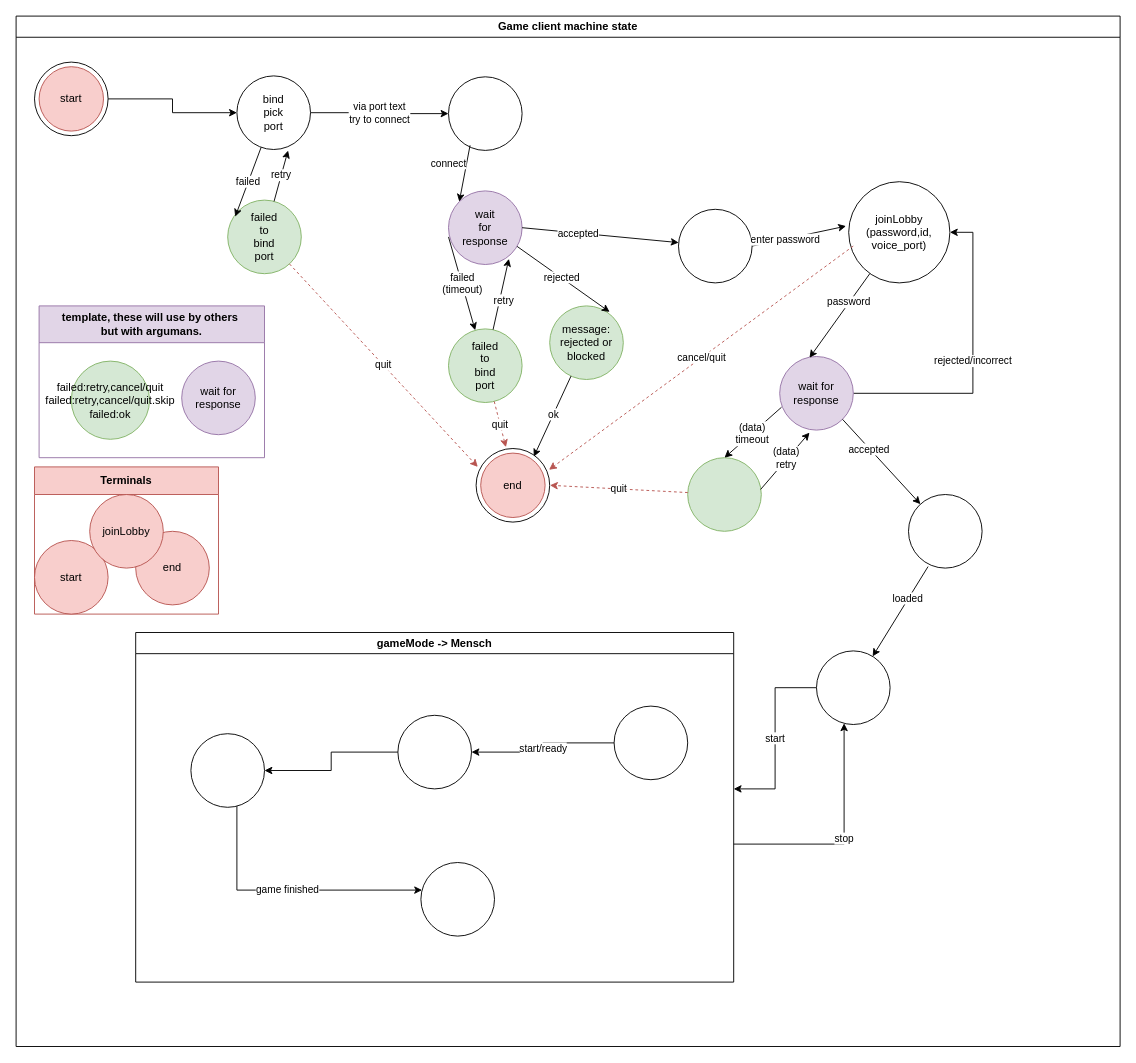
Some shapes in this 1136 by 1063 pixel diagram are drawn without their labels. Each missing label, with the centre of its shape:
connected to the server: the point at 715,245
connecting to server: the point at 485,113
failed:timeout: the point at 724,494
game board: the point at 227,770
game end: the point at 457,899
load game board: the point at 434,751
loading lobby: the point at 945,531
lobby: the point at 853,687
select seat: the point at 650,742
